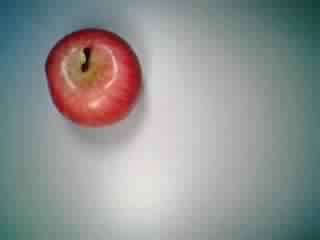apple: (41, 26, 146, 130)
